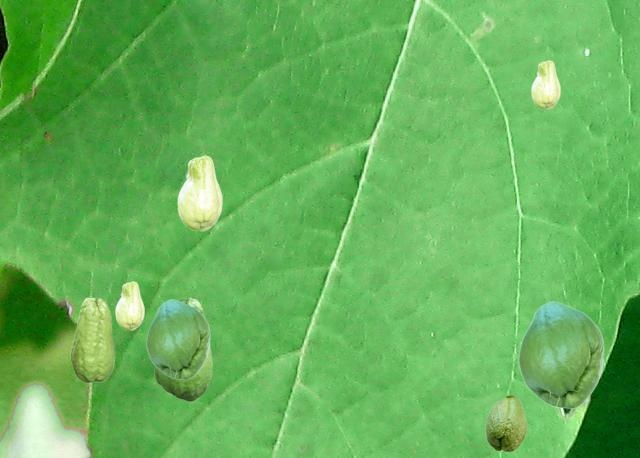sayote: (518, 301, 603, 408), (154, 297, 211, 400), (146, 299, 209, 379), (70, 297, 114, 382), (177, 155, 221, 230), (485, 394, 526, 451), (115, 281, 143, 329), (531, 60, 559, 108)
